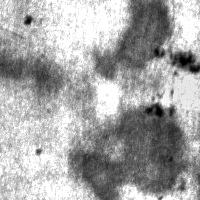patches: (74, 109, 184, 199), (94, 1, 170, 75), (152, 38, 200, 120), (1, 54, 62, 90), (156, 47, 198, 75), (144, 93, 175, 119)
